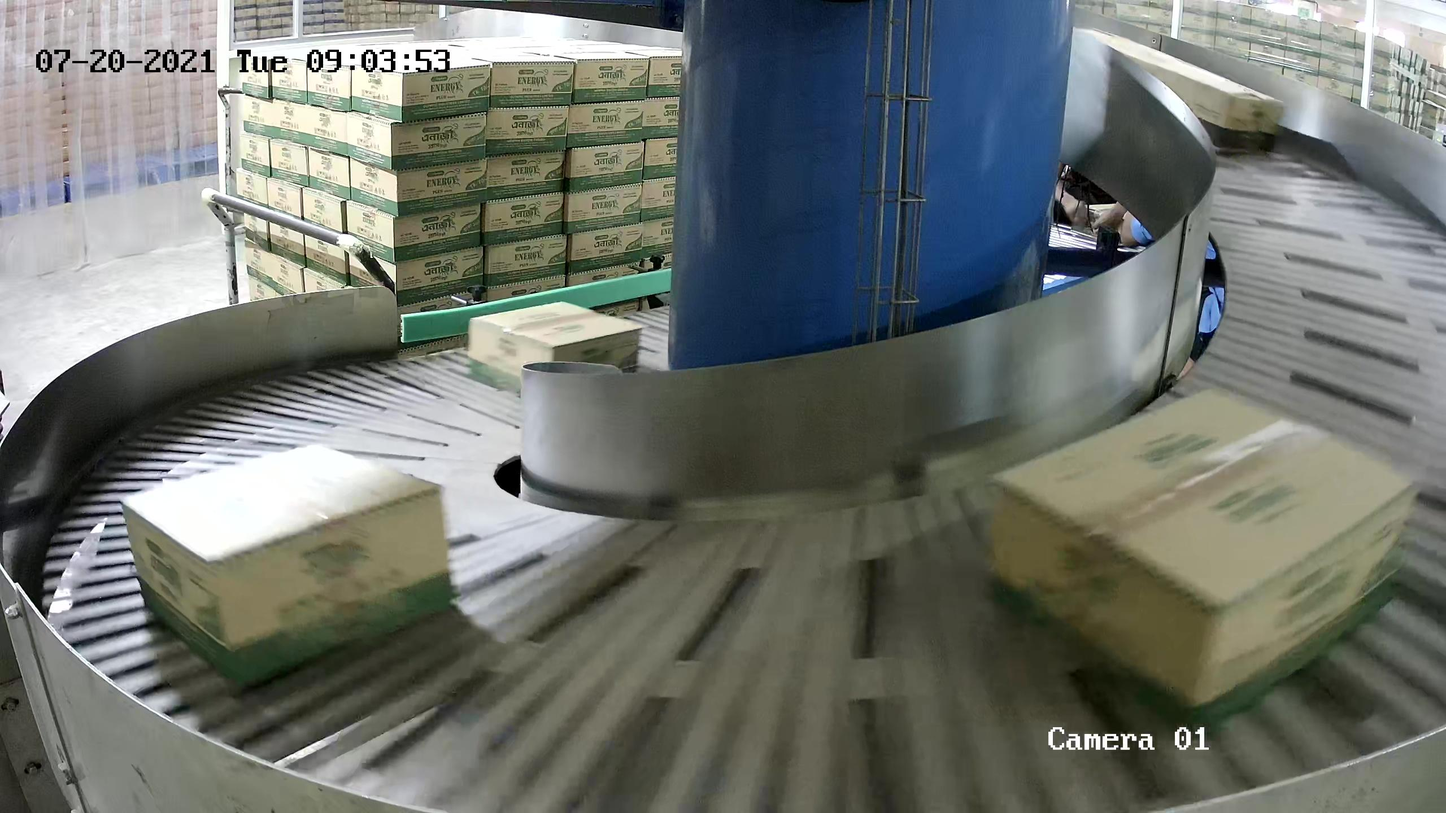Box: (984, 380, 1426, 738), (118, 441, 455, 691), (1075, 26, 1285, 154), (467, 300, 643, 394)
